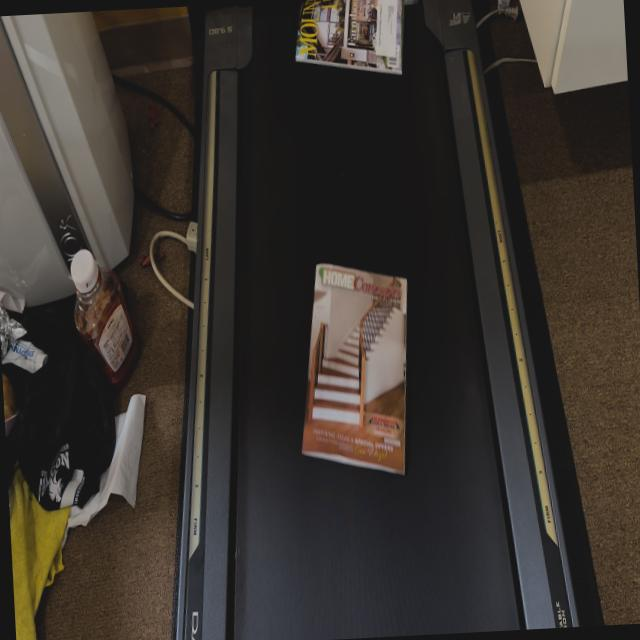Recycle: (290, 258, 419, 486), (289, 0, 408, 84)
